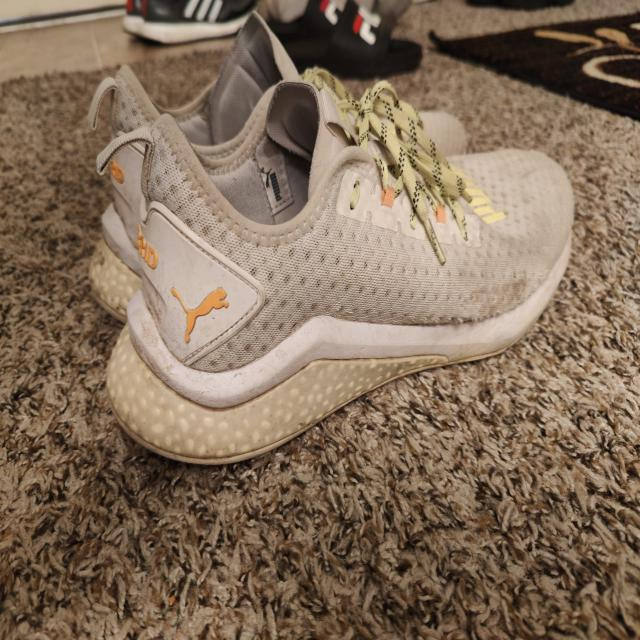white shoes: (107, 97, 567, 429)
